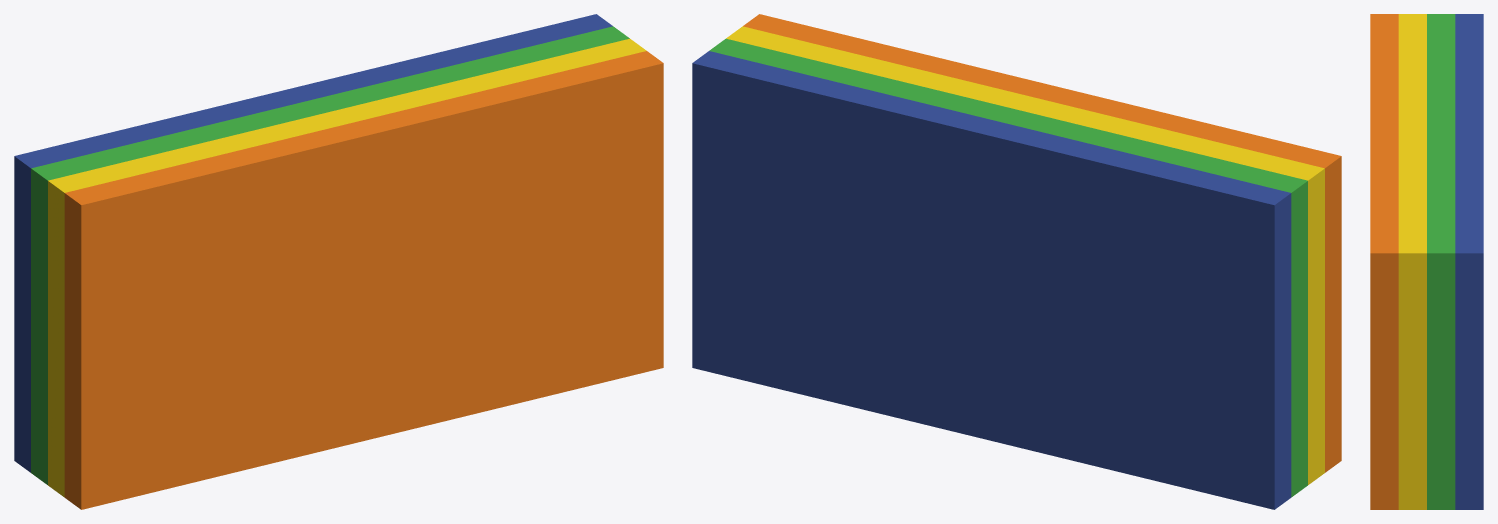
Rendered from tinker.obj.
3 renders of one model, left to right at view 1: azimuth 30°, elevation 25°; view 2: azimuth 150°, elevation 25°; view 3: azimuth 270°, elevation 25°, orthographic. The views are drawn at different scales.
Parts seen in each view (by area): view 1: group_0_16089887, group_0_3888547, group_0_16768282, group_0_4634441; view 2: group_0_3888547, group_0_4634441, group_0_16089887, group_0_16768282; view 3: group_0_3888547, group_0_4634441, group_0_16089887, group_0_16768282.
Part boxes in pixels (x1,y1,x2,y2): group_0_16089887: (64,51,663,509); group_0_3888547: (14,14,612,472); group_0_16768282: (48,38,646,497); group_0_4634441: (31,26,629,484); group_0_3888547: (692,51,1291,509); group_0_4634441: (709,38,1307,497); group_0_16089887: (743,14,1341,472); group_0_16768282: (726,26,1324,484); group_0_3888547: (1455,14,1483,509); group_0_4634441: (1427,14,1455,509); group_0_16089887: (1370,14,1398,509); group_0_16768282: (1398,14,1426,509).
Size of the model in its own units: 200 by 100 by 40.
